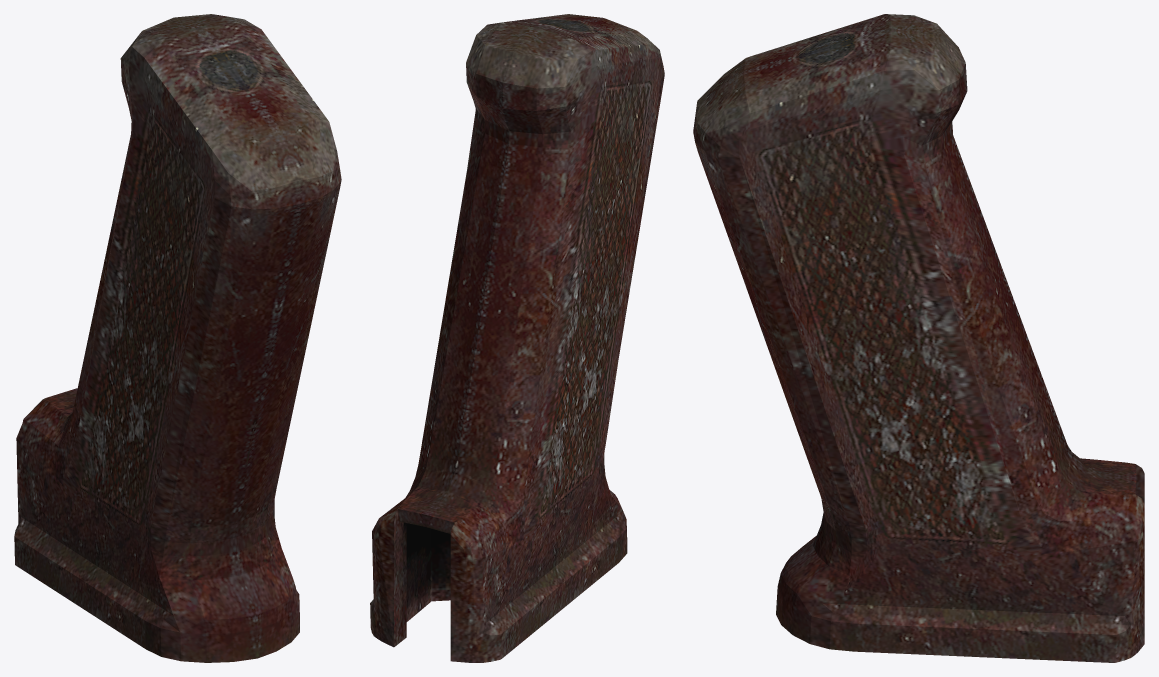
The picture shows the model from 3 angles, left to right: view 1: azimuth 30°, elevation 25°; view 2: azimuth 150°, elevation 25°; view 3: azimuth 270°, elevation 25°; orthographic projection. The views are drawn at different scales.
Visible parts, largest first — view 1: TW_59e62cc886f77440d40b52a1_PZ_Import; view 2: TW_59e62cc886f77440d40b52a1_PZ_Import; view 3: TW_59e62cc886f77440d40b52a1_PZ_Import.
Boxes of the visible parts, bbox=[...] form: TW_59e62cc886f77440d40b52a1_PZ_Import: bbox=[14, 14, 341, 662]; TW_59e62cc886f77440d40b52a1_PZ_Import: bbox=[370, 14, 664, 662]; TW_59e62cc886f77440d40b52a1_PZ_Import: bbox=[693, 14, 1144, 662].
Bounding box in the file's own units: 0.0153 × 0.0416 × 0.0616.
Materials: 1 (1 with a texture image).
